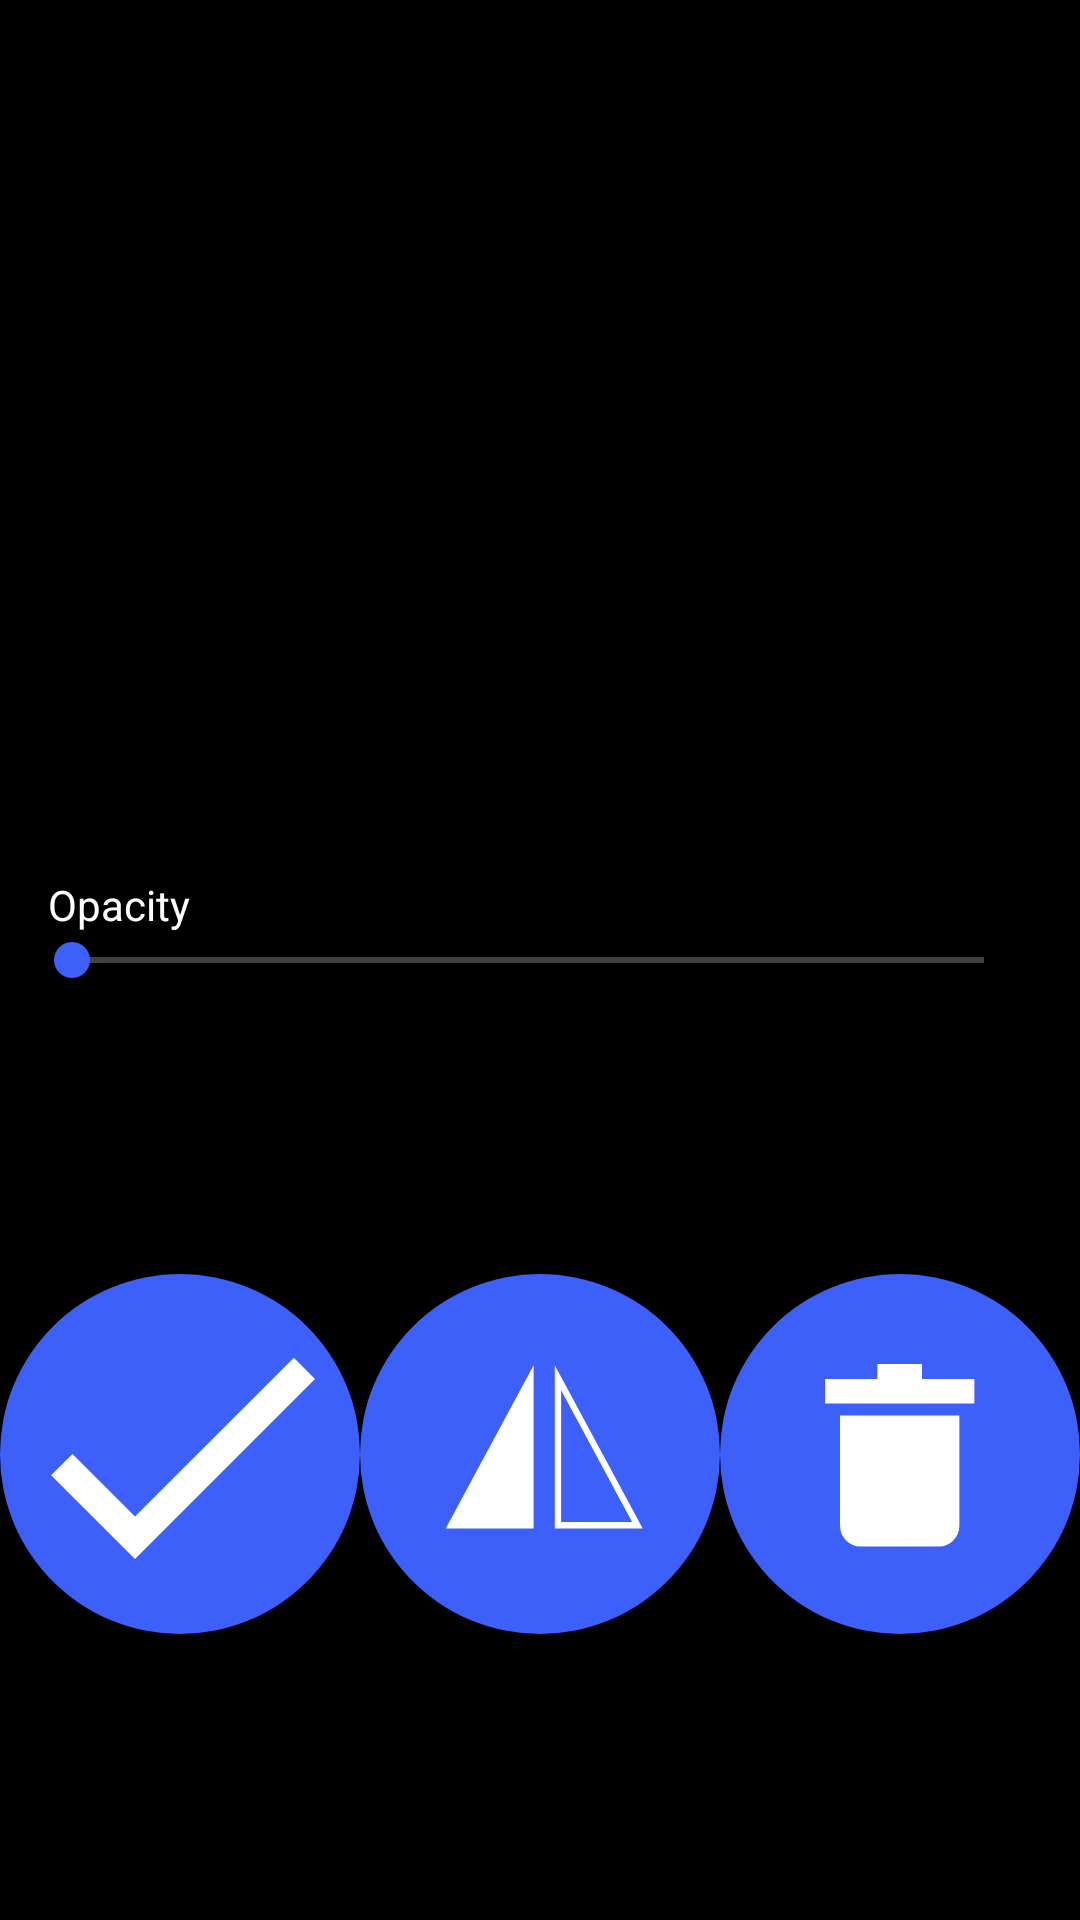

Icon click points for this 1080×1920 phone screenshot, format (x,y):
checkmark: (180,1454)
container delete: (900,1454)
container flip: (540,1454)
